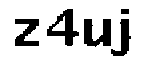4: (44, 7, 79, 49)
j: (112, 5, 135, 59)
u: (81, 16, 114, 49)
z: (12, 14, 43, 51)
